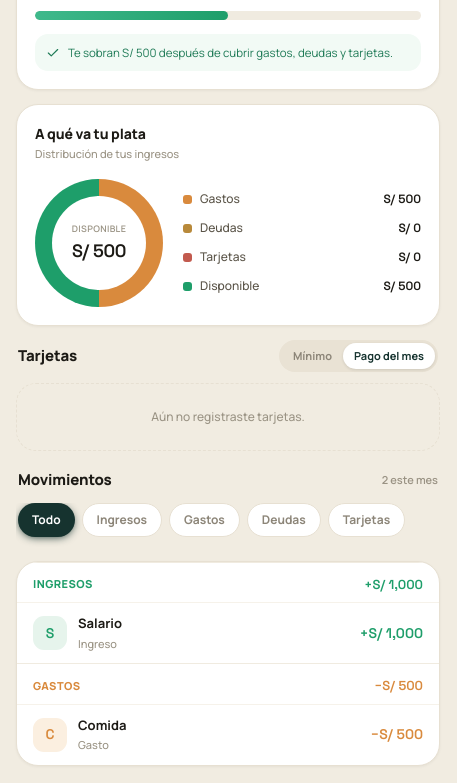
Test: should DashboardView › should show all movements again when Todo filter is reselected
(page scrolled)
Click the button "Ingresos" at (122, 520), box [82,503,162,537]
(page scrolled)
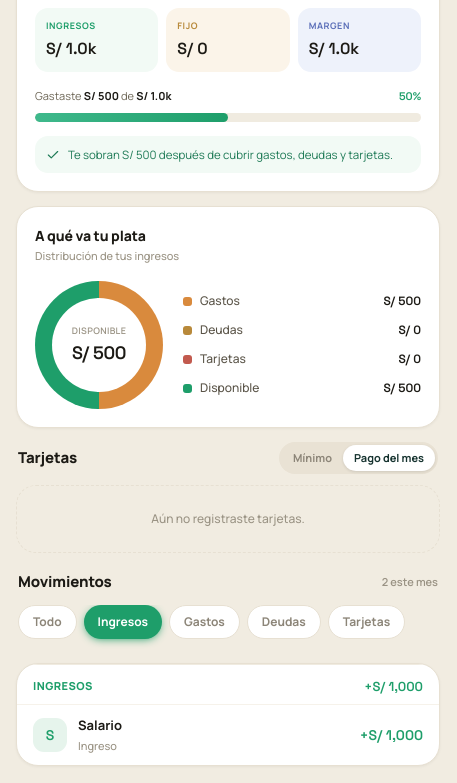
Expected: the number of elements with test id "description-item" is 1, [17,704,439,765]
Click the button "Todo" at (47, 622), box [18,605,77,639]
(page scrolled)
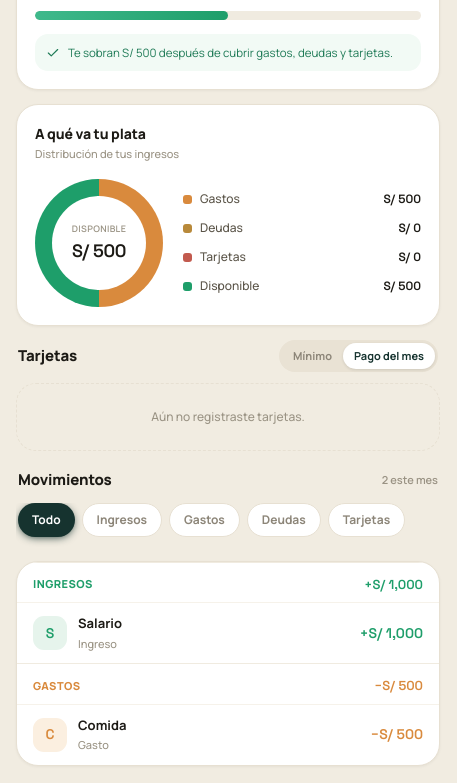
Expected: the number of elements with test id "description-item" is 2, [17,602,439,663]; [17,704,439,765]
